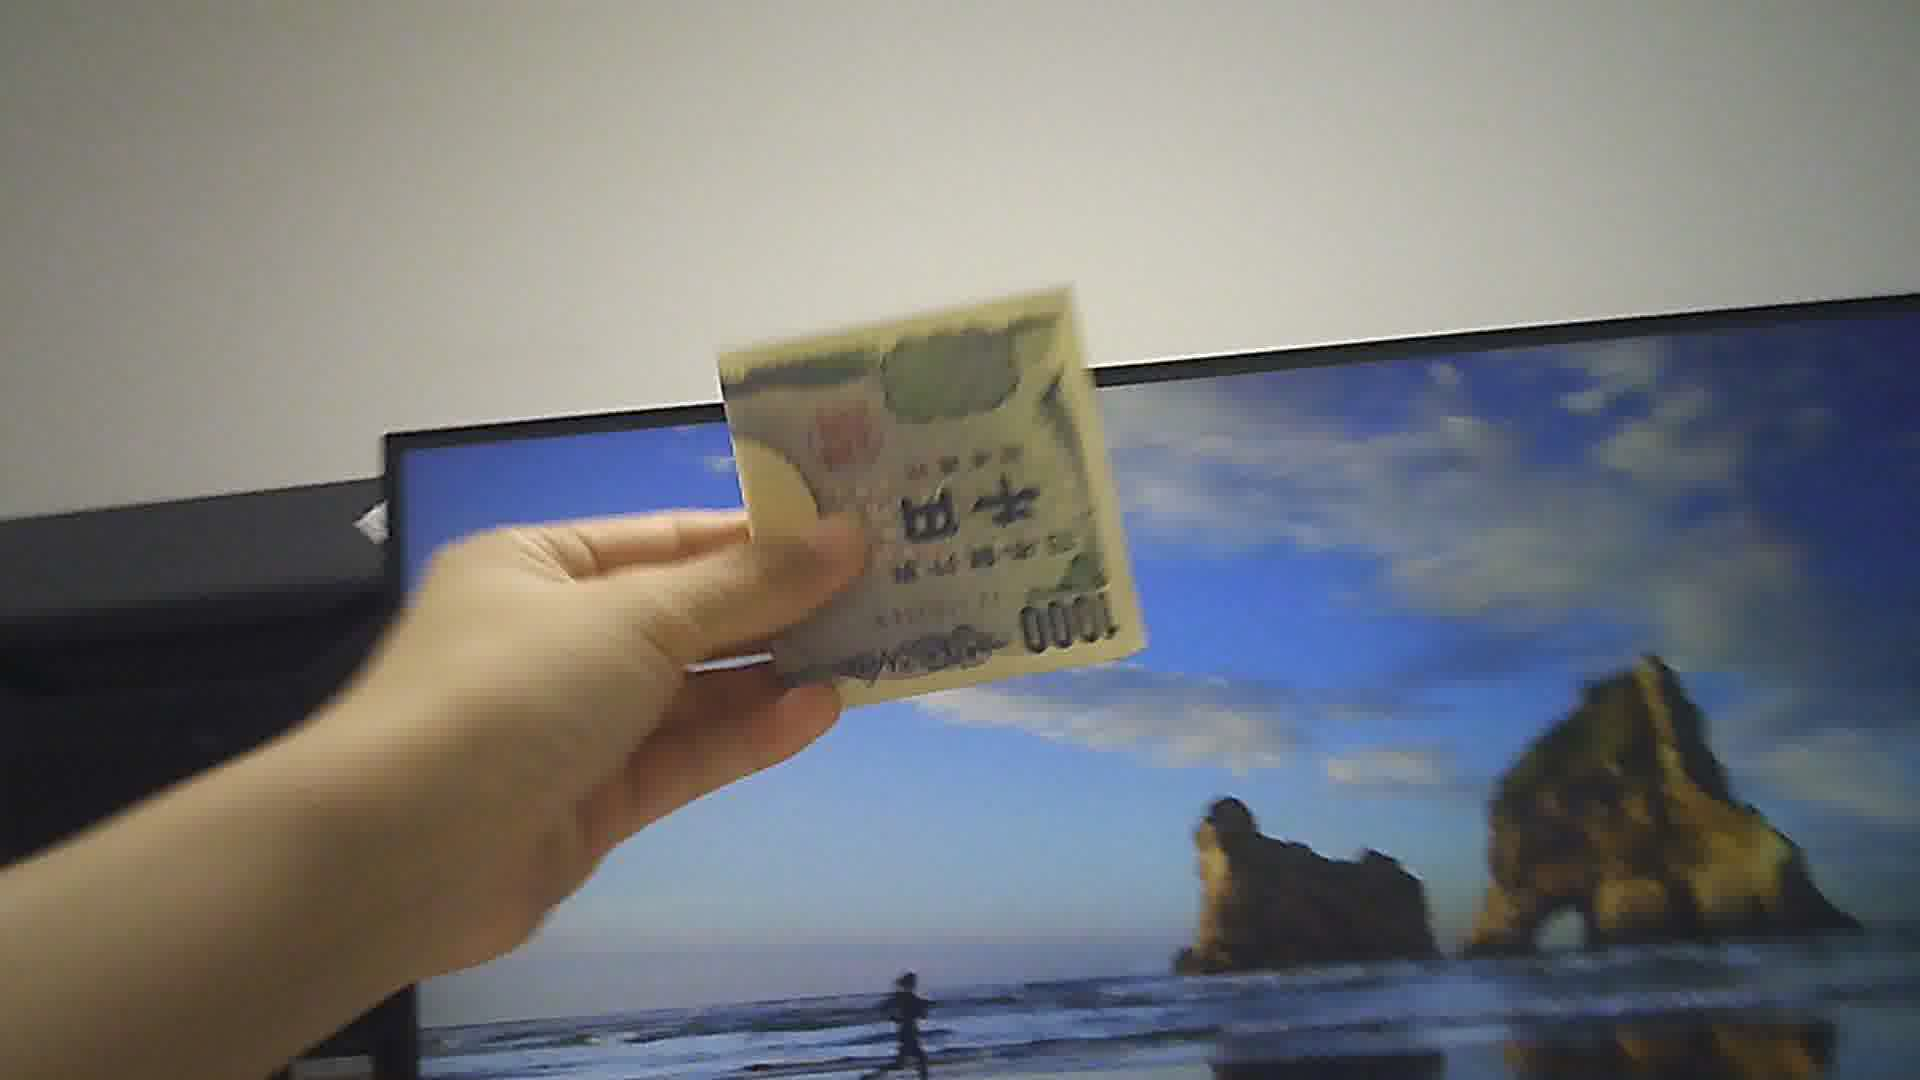1,000 Yen: (709, 297, 1185, 692)
